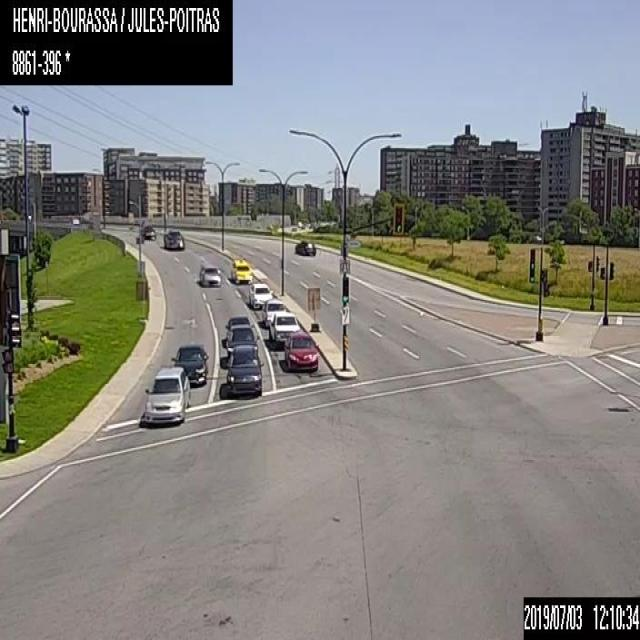vehicle: (142, 364, 189, 424), (224, 344, 264, 394), (170, 345, 207, 386), (284, 330, 319, 372), (268, 310, 300, 348), (225, 324, 258, 359), (261, 298, 286, 326), (196, 261, 221, 287), (249, 282, 273, 309), (226, 316, 254, 338), (230, 257, 252, 284), (162, 228, 184, 248), (294, 239, 316, 255), (140, 222, 156, 238)
